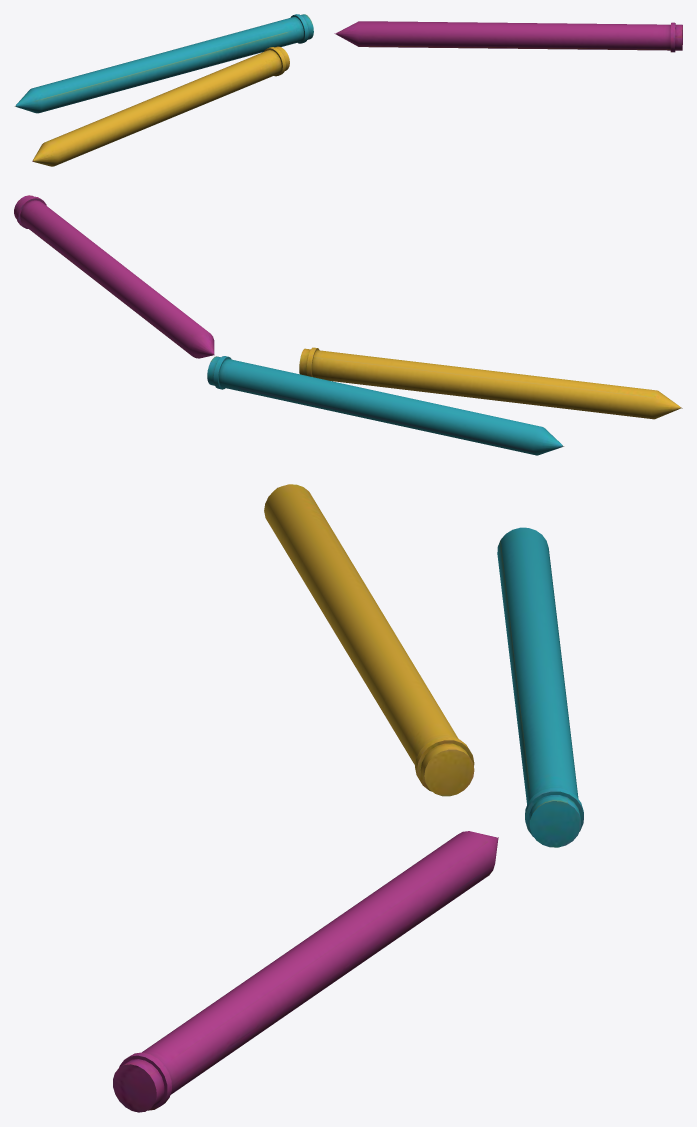
Rendered from pencils-loose-v1.glb.
The picture shows the model from 3 angles, top to bottom: view 1: azimuth 30°, elevation 25°; view 2: azimuth 150°, elevation 25°; view 3: azimuth 270°, elevation 25°; orthographic projection. The views are drawn at different scales.
Parts seen in each view (by area): view 1: loose_pencils; view 2: loose_pencils; view 3: loose_pencils.
Boxes of the visible parts, x1,y1,x2,y2 form: loose_pencils: (14,14,682,166); loose_pencils: (14,195,682,455); loose_pencils: (113,484,583,1112).
Size of the model in its own units: 0.3853 by 0.0159 by 0.1265.
Materials: 1 (1 with a texture image).
